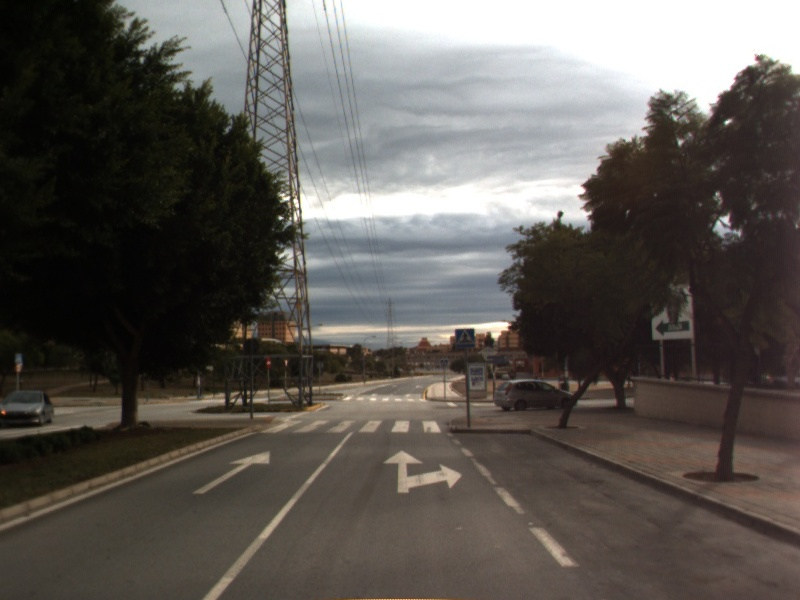STRAIGHT: (190, 448, 272, 496)
STRAIGHT_RIGHT: (381, 448, 465, 495)
